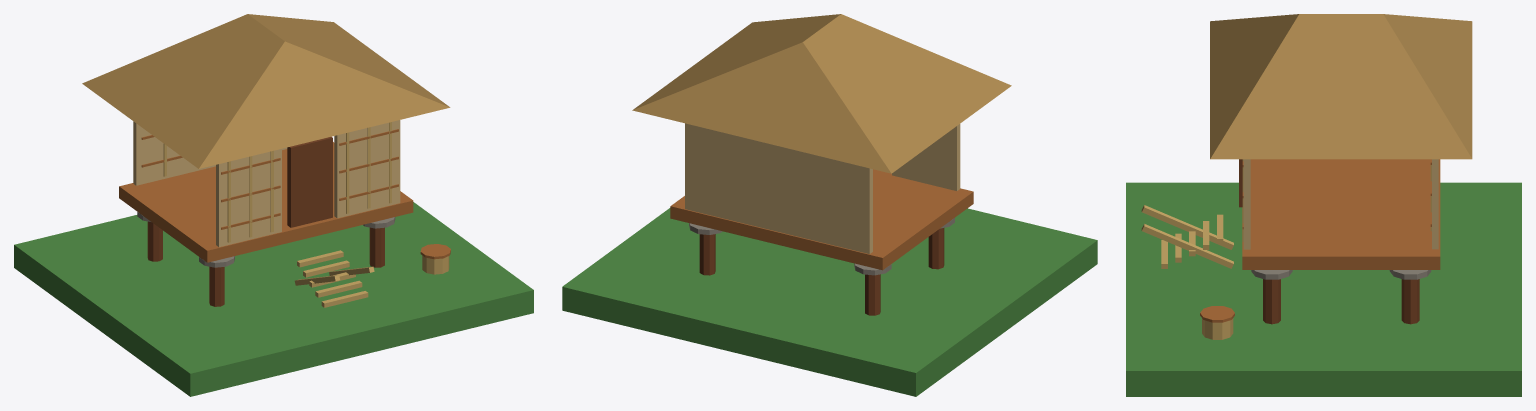
File: small_granary.glb
3 views of the same model, side by side, from view 1: azimuth 30°, elevation 25°; view 2: azimuth 150°, elevation 25°; view 3: azimuth 270°, elevation 25° (orthographic). The views are drawn at different scales.
Visible parts, largest first — view 1: TerrainBase, GranaryRoof, GranaryDeck, GranaryFrontRPanel, GranaryFrontLPanel, GranaryDoor, GranaryRearPanel, GranaryStilt, GranaryStilt.002, GranaryStilt.001; view 2: TerrainBase, GranaryRoof, GranaryRearPanel, GranaryDeck, GranaryFrontLPanel, GranaryStilt.003, GranaryStilt.001, GranaryStilt; view 3: TerrainBase, GranaryRoof, GranaryDeck, GranaryStilt.003, LadderRail.001, GranaryStilt.002, GranaryFrontRPanel, LadderRail, GranaryRearPanel, RiceBasket, RiceBasketRim.
Boxes of the visible parts, left/top/right/bottom form: TerrainBase: left=14, top=202, right=533, bottom=396; GranaryRoof: left=82, top=14, right=450, bottom=168; GranaryDeck: left=119, top=142, right=413, bottom=262; GranaryFrontRPanel: left=334, top=120, right=400, bottom=218; GranaryFrontLPanel: left=216, top=149, right=281, bottom=247; GranaryDoor: left=287, top=136, right=332, bottom=227; GranaryRearPanel: left=133, top=121, right=287, bottom=185; GranaryStilt: left=209, top=266, right=224, bottom=306; GranaryStilt.002: left=369, top=227, right=384, bottom=267; GranaryStilt.001: left=147, top=221, right=162, bottom=261; TerrainBase: left=562, top=208, right=1097, bottom=396; GranaryRoof: left=632, top=14, right=1011, bottom=173; GranaryRearPanel: left=685, top=123, right=872, bottom=253; GranaryDeck: left=670, top=169, right=973, bottom=270; GranaryFrontLPanel: left=892, top=124, right=960, bottom=190; GranaryStilt.003: left=699, top=234, right=715, bottom=275; GranaryStilt.001: left=865, top=274, right=880, bottom=315; GranaryStilt: left=928, top=228, right=944, bottom=269; TerrainBase: left=1126, top=182, right=1521, bottom=396; GranaryRoof: left=1210, top=14, right=1472, bottom=159; GranaryDeck: left=1242, top=159, right=1440, bottom=269; GranaryStilt.003: left=1401, top=279, right=1419, bottom=324; LadderRail.001: left=1141, top=224, right=1233, bottom=268; GranaryStilt.002: left=1263, top=279, right=1280, bottom=324; GranaryFrontRPanel: left=1243, top=159, right=1250, bottom=249; LadderRail: left=1141, top=205, right=1233, bottom=249; GranaryRearPanel: left=1432, top=159, right=1438, bottom=249; RiceBasket: left=1202, top=318, right=1233, bottom=339; RiceBasketRim: left=1200, top=306, right=1234, bottom=322.
Size of the model in its own units: 9 by 6.44 by 8.
